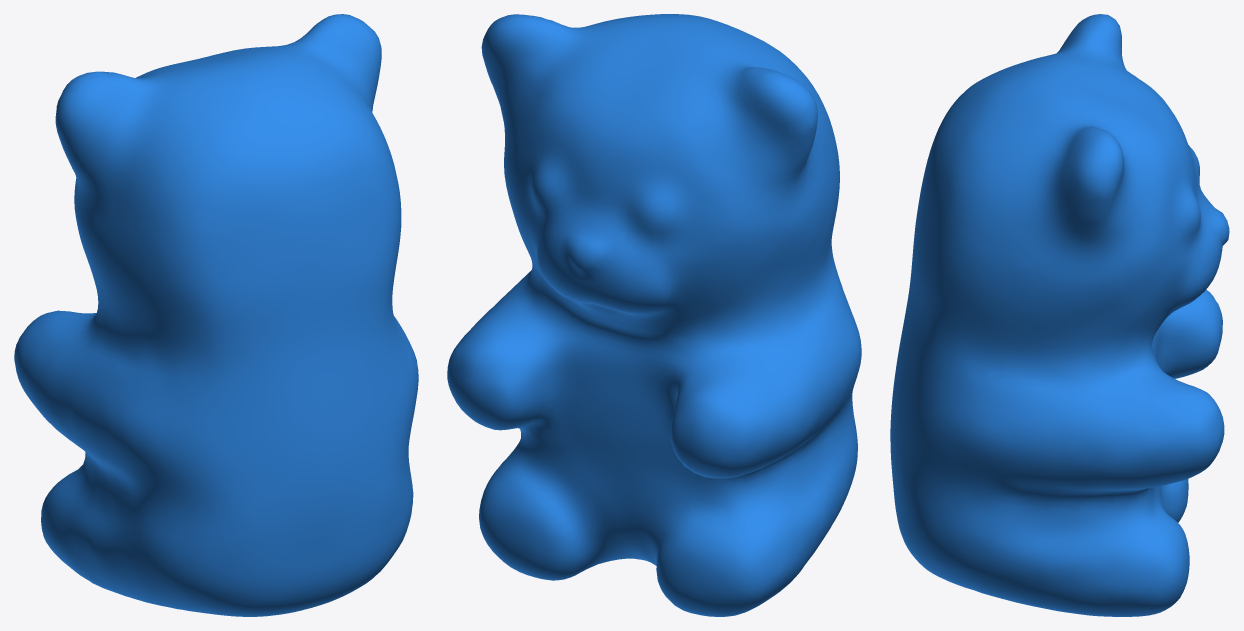
The model's file is gummy.glb.
The picture shows the model from 3 angles, left to right: view 1: azimuth 30°, elevation 25°; view 2: azimuth 150°, elevation 25°; view 3: azimuth 270°, elevation 25°; orthographic projection. The views are drawn at different scales.
Parts seen in each view (by area): view 1: gummy bear.150; view 2: gummy bear.150; view 3: gummy bear.150.
Part boxes in pixels (left/top/right/bottom): gummy bear.150: left=14, top=14, right=418, bottom=616; gummy bear.150: left=447, top=14, right=861, bottom=616; gummy bear.150: left=890, top=14, right=1229, bottom=616.
Size of the model in its own units: 0.4445 by 0.6816 by 0.4203.
